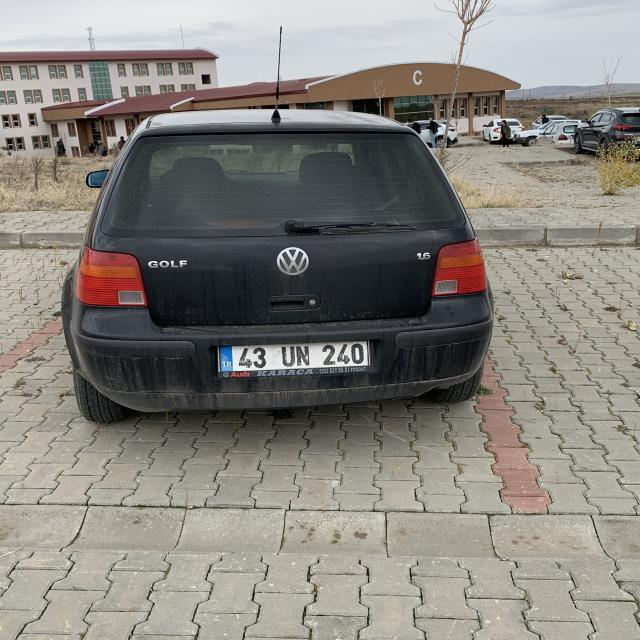license_plate: (218, 342, 370, 372)
